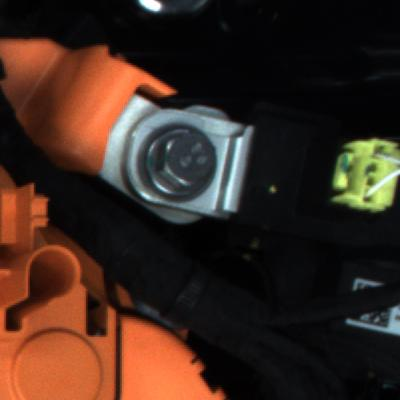nut_b: (134, 125, 232, 201)
